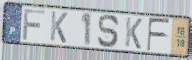1: (80, 12, 93, 47)
F: (146, 17, 172, 53), (21, 8, 47, 42)
K: (49, 10, 70, 45), (124, 16, 144, 51)
S: (96, 13, 121, 49)
